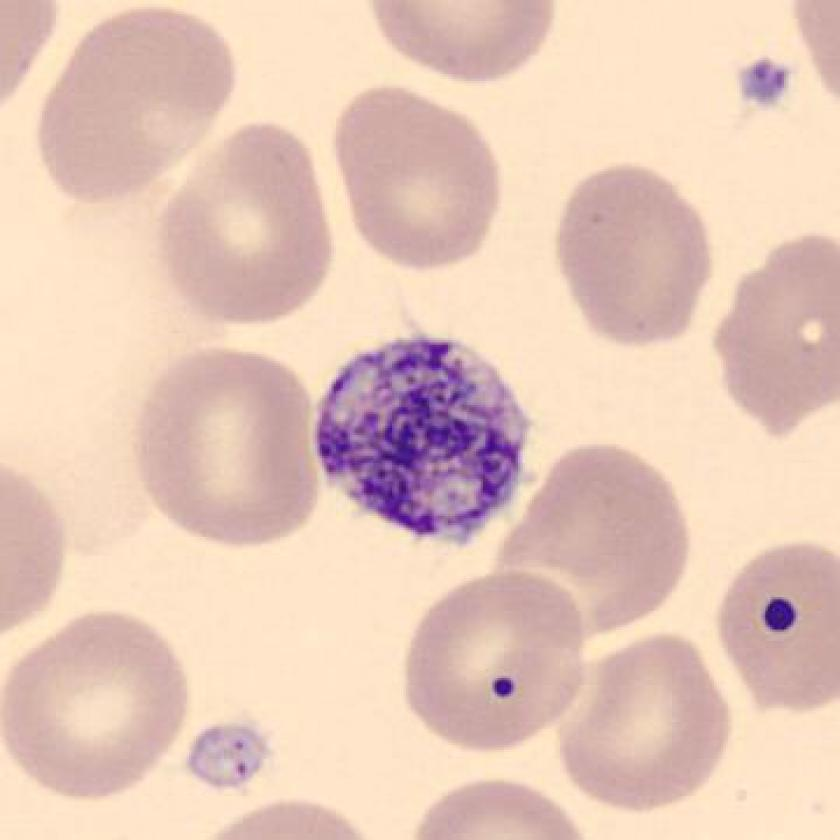platelets: (302, 320, 547, 561), (733, 56, 798, 114), (754, 592, 807, 642), (488, 668, 521, 711)
